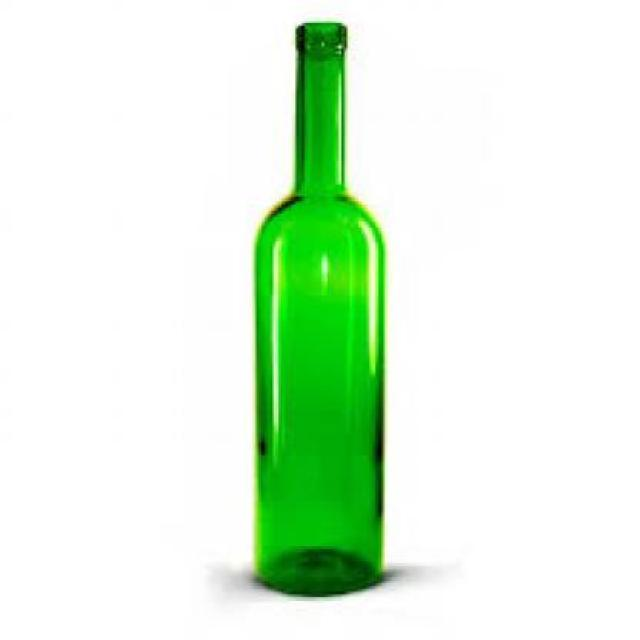GLASS: (253, 20, 384, 592)
